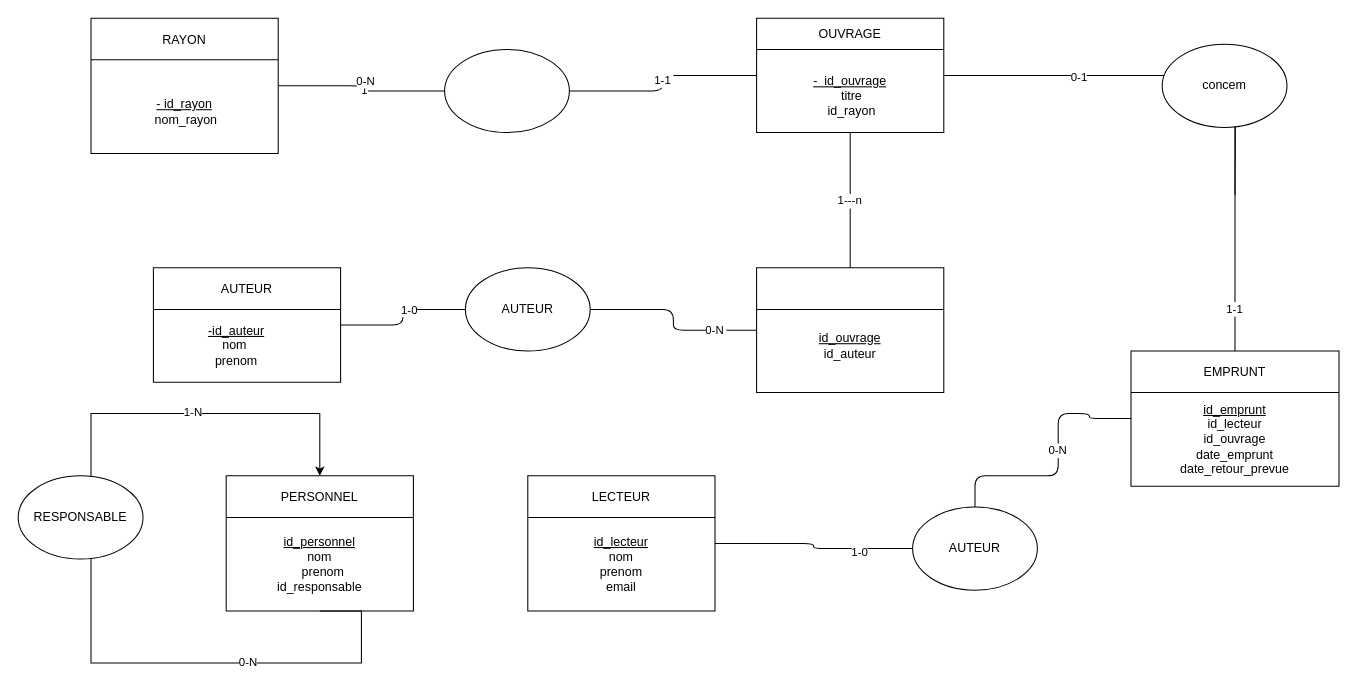
The diagram is 1357 pixels wide and 690 high, and some of its shapes have lost their labels. Each missing label, with the box of its shape:
apartion: (444, 48, 569, 133)
OUVRAGE_AUTEUR: (756, 267, 944, 393)
